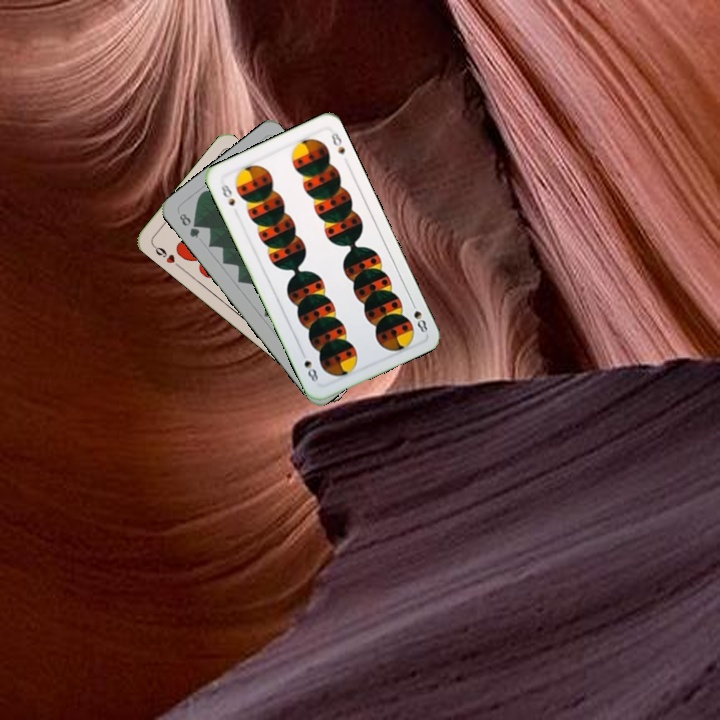G8: (175, 209, 202, 241)
H9: (149, 241, 183, 270)
S8: (407, 297, 430, 336), (217, 181, 238, 209)
